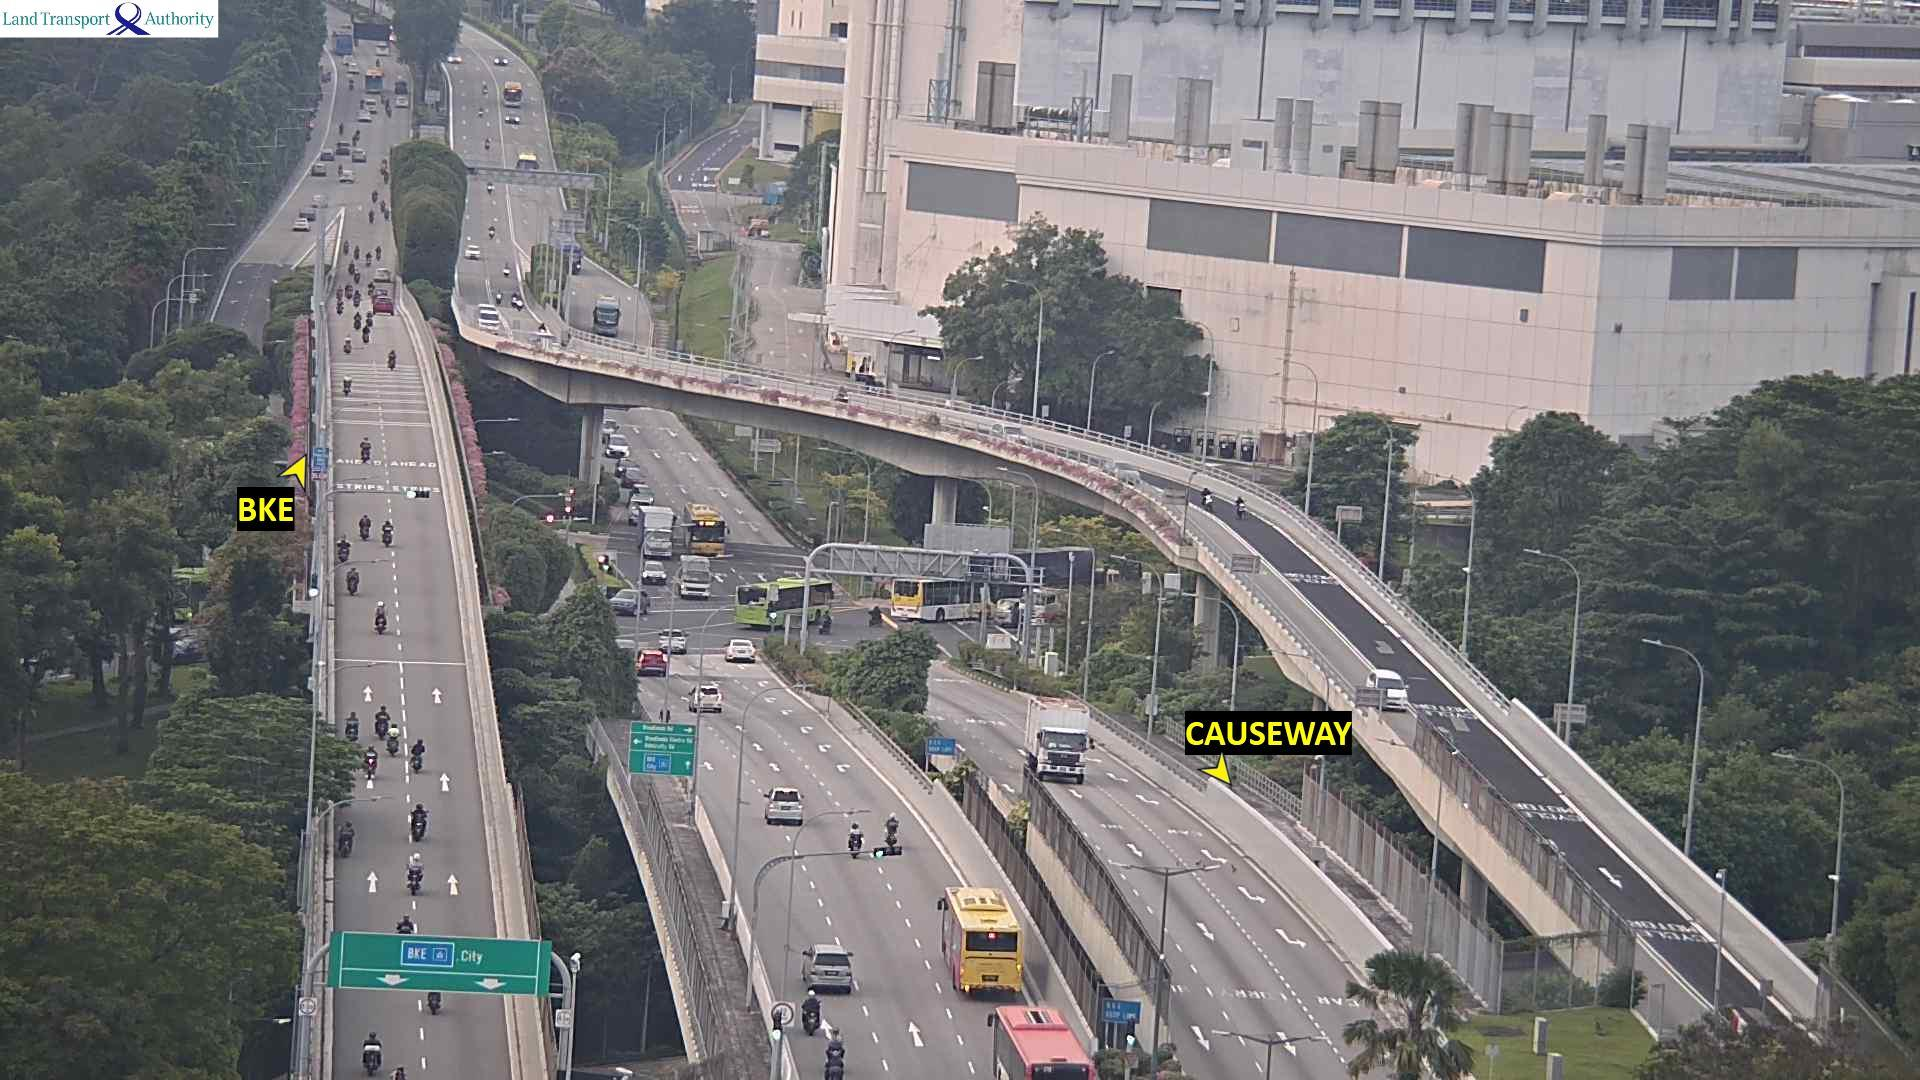vehicle-causeway-johor: (1034, 720, 1098, 781), (1367, 669, 1408, 711), (1102, 456, 1143, 483), (989, 421, 1030, 446), (479, 309, 506, 327), (833, 382, 849, 405), (1234, 495, 1247, 518), (1200, 488, 1215, 509), (465, 244, 483, 258), (512, 293, 522, 309), (488, 225, 497, 239), (496, 287, 502, 302), (504, 262, 510, 276), (539, 323, 546, 332)
vehicle-causeway-singapore: (947, 889, 1035, 1000), (990, 1007, 1096, 1080), (803, 943, 860, 992), (764, 789, 806, 827), (827, 1027, 845, 1080), (694, 684, 727, 713), (802, 989, 820, 1035), (359, 1038, 380, 1077), (636, 653, 669, 676), (882, 822, 902, 855), (411, 806, 430, 840), (339, 818, 355, 855), (375, 704, 389, 737), (411, 740, 430, 765), (364, 745, 378, 775), (336, 533, 351, 562), (426, 990, 443, 1014), (375, 600, 386, 634), (849, 822, 861, 855), (410, 866, 425, 893), (345, 712, 360, 738), (388, 725, 400, 757), (347, 567, 360, 595), (396, 914, 415, 931), (382, 521, 393, 547), (360, 516, 371, 539), (361, 435, 371, 460), (343, 373, 352, 397), (396, 1067, 410, 1080), (344, 336, 352, 355), (361, 326, 371, 342), (389, 351, 396, 372)
